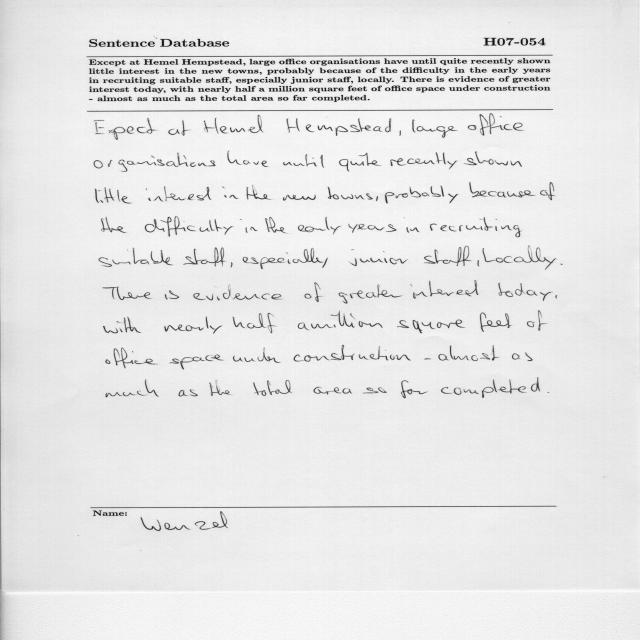word: (94, 153, 216, 172), (294, 345, 411, 362), (441, 378, 540, 398), (287, 118, 391, 136), (430, 217, 521, 237), (243, 248, 328, 269), (145, 217, 234, 237), (483, 246, 557, 270), (193, 285, 282, 301), (99, 248, 173, 267), (95, 118, 156, 140), (385, 186, 458, 204), (410, 281, 479, 299), (468, 114, 524, 136), (311, 311, 383, 328), (338, 285, 402, 304), (390, 153, 458, 170), (204, 115, 263, 134), (106, 348, 158, 369), (469, 182, 535, 198), (164, 316, 222, 334), (350, 250, 408, 267), (438, 345, 499, 361), (146, 187, 211, 202), (424, 246, 472, 266), (499, 283, 552, 301), (106, 380, 159, 398), (397, 320, 465, 334), (464, 151, 522, 167), (232, 313, 276, 333), (413, 120, 458, 138), (170, 355, 224, 370), (184, 248, 226, 267), (233, 347, 281, 363), (339, 153, 381, 171), (298, 217, 341, 234), (227, 151, 269, 167), (480, 312, 512, 332), (103, 287, 152, 300), (253, 380, 292, 396), (96, 187, 132, 204), (104, 317, 141, 333), (328, 187, 373, 200), (283, 154, 324, 168), (401, 381, 427, 399), (348, 224, 397, 233), (102, 217, 127, 233), (527, 311, 547, 331), (247, 185, 271, 200), (304, 282, 322, 302), (209, 380, 231, 396), (169, 120, 190, 136), (265, 217, 286, 233), (314, 387, 352, 395), (540, 182, 555, 200), (240, 219, 257, 233), (222, 186, 238, 199), (283, 195, 316, 201), (512, 353, 533, 361), (363, 388, 387, 394), (178, 390, 198, 397), (165, 291, 179, 300), (298, 323, 309, 331), (406, 227, 420, 233), (424, 358, 431, 360), (399, 130, 401, 136), (478, 260, 480, 266), (376, 196, 378, 201), (231, 263, 233, 268), (555, 295, 557, 298), (560, 264, 563, 265), (548, 392, 550, 393)
